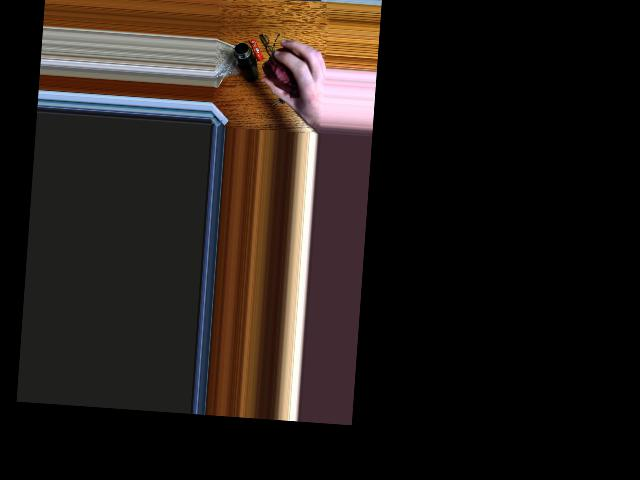onion: (264, 47, 304, 101)
